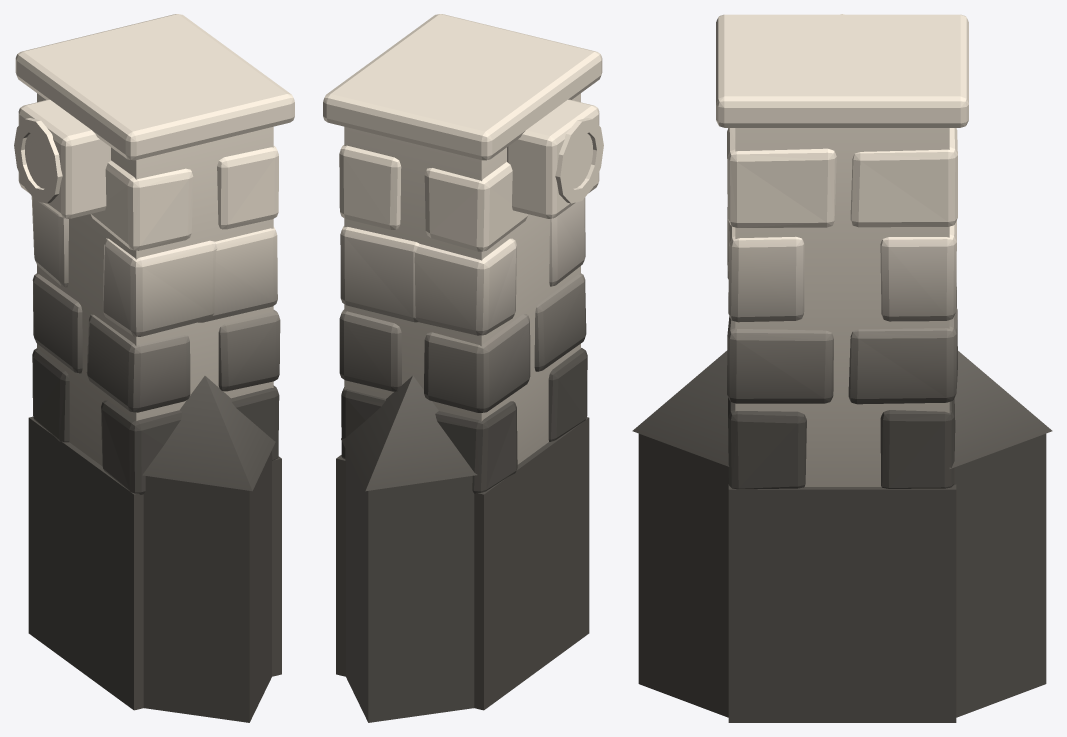
File: SM_VK_Mill_WheelPier.fbx
The picture shows the model from 3 angles, left to right: view 1: azimuth 30°, elevation 25°; view 2: azimuth 150°, elevation 25°; view 3: azimuth 270°, elevation 25°; orthographic projection. The views are drawn at different scales.
Parts seen in each view (by area): view 1: SM_VK_Mill_WheelPier.001; view 2: SM_VK_Mill_WheelPier.001; view 3: SM_VK_Mill_WheelPier.001.
Boxes of the visible parts, left/top/right/bottom form: SM_VK_Mill_WheelPier.001: left=14, top=14, right=294, bottom=722; SM_VK_Mill_WheelPier.001: left=323, top=14, right=603, bottom=722; SM_VK_Mill_WheelPier.001: left=632, top=14, right=1052, bottom=722.
Bounding box in the file's own units: 1.19 × 3.23 × 1.96.
